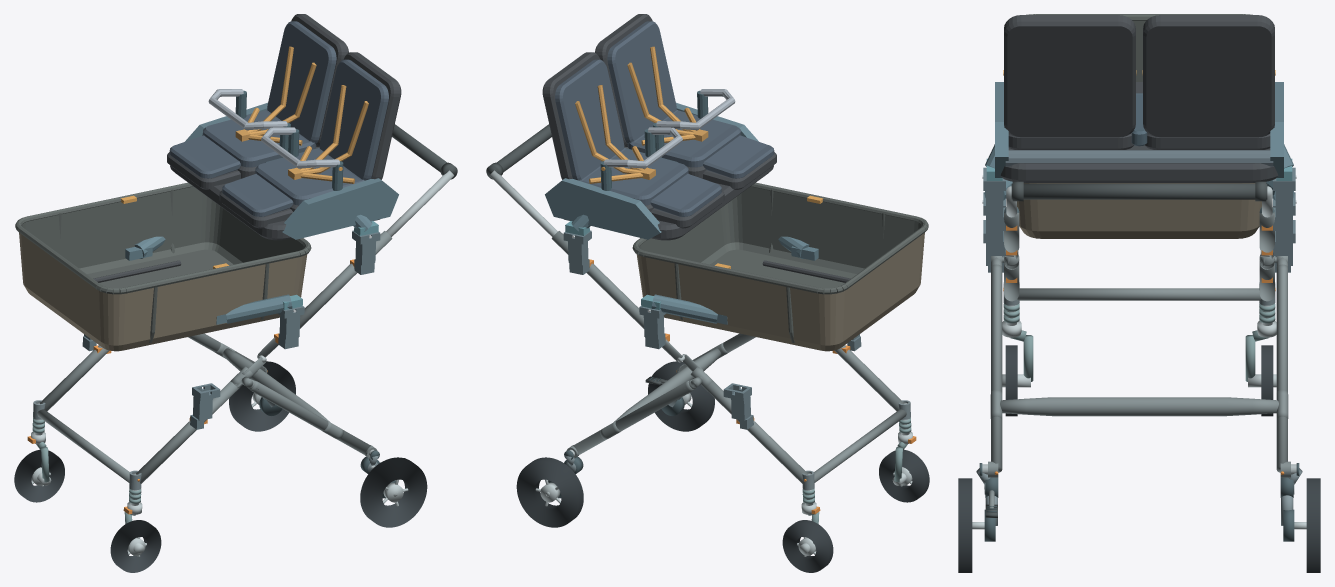
Rendered from D28_w650_state1_wheel_S.glb.
The picture shows the model from 3 angles, left to right: view 1: azimuth 30°, elevation 25°; view 2: azimuth 150°, elevation 25°; view 3: azimuth 270°, elevation 25°; orthographic projection. The views are drawn at different scales.
Parts seen in each view (by area): view 1: D28_Lower, D28_Upper, RL_tire.008, D28_Lower_Mount_M, RR_tire.008, FL_tire.008, FR_tire.008, V46_rear_leg_-1.009, main_lower_-1.009, front_fixed_round_tube.008, main_upper_-1.009, V46_rearbar.009 (+6 smaller); view 2: D28_Lower, D28_Upper, RR_tire.008, D28_Lower_Mount_M, FR_tire.008, RL_tire.008, FL_tire.008, V46_rear_leg_1.009, main_lower_1.009, front_fixed_round_tube.008, main_upper_1.009, V46_rearbar.009 (+6 smaller); view 3: D28_Upper, D28_Lower, V46_rearbar.009, round_handle.008, front_fixed_round_tube.008, V46_rear_leg_1.009, V46_rear_leg_-1.009, RL_tire.008, RR_tire.008, Universal_Cabin_Receiver_H_1, Universal_Cabin_Receiver_H_-1, FL_tire.008 (+10 smaller).
Part boxes in pixels (x1,y1,x2,y2): D28_Lower: [15, 182, 311, 351]; D28_Upper: [167, 14, 401, 240]; RL_tire.008: [360, 457, 427, 527]; D28_Lower_Mount_M: [125, 236, 302, 324]; RR_tire.008: [229, 361, 295, 431]; FL_tire.008: [110, 520, 161, 572]; FR_tire.008: [14, 449, 64, 502]; V46_rear_leg_-1.009: [250, 381, 370, 454]; main_lower_-1.009: [136, 381, 241, 483]; front_fixed_round_tube.008: [37, 409, 129, 482]; main_upper_-1.009: [300, 231, 392, 328]; V46_rearbar.009: [222, 348, 330, 422]; D28_Lower: [632, 182, 928, 351]; D28_Upper: [542, 14, 776, 240]; RR_tire.008: [516, 457, 583, 527]; D28_Lower_Mount_M: [641, 236, 818, 324]; FR_tire.008: [782, 520, 833, 572]; RL_tire.008: [648, 361, 714, 431]; FL_tire.008: [879, 449, 929, 502]; V46_rear_leg_1.009: [573, 381, 693, 454]; main_lower_1.009: [702, 381, 807, 483]; front_fixed_round_tube.008: [814, 409, 906, 482]; main_upper_1.009: [551, 231, 643, 328]; V46_rearbar.009: [613, 348, 721, 422]; D28_Upper: [995, 15, 1283, 182]; D28_Lower: [1017, 14, 1261, 238]; V46_rearbar.009: [1000, 397, 1278, 416]; round_handle.008: [1011, 183, 1267, 199]; front_fixed_round_tube.008: [1017, 288, 1261, 300]; V46_rear_leg_1.009: [1276, 264, 1287, 472]; V46_rear_leg_-1.009: [991, 264, 1002, 472]; RL_tire.008: [958, 478, 972, 572]; RR_tire.008: [1306, 478, 1320, 572]; Universal_Cabin_Receiver_H_1: [1273, 167, 1295, 230]; Universal_Cabin_Receiver_H_-1: [983, 167, 1005, 230]; FL_tire.008: [1005, 345, 1017, 416].
Size of the model in its own units: 1.14 by 1.32 by 0.766.
